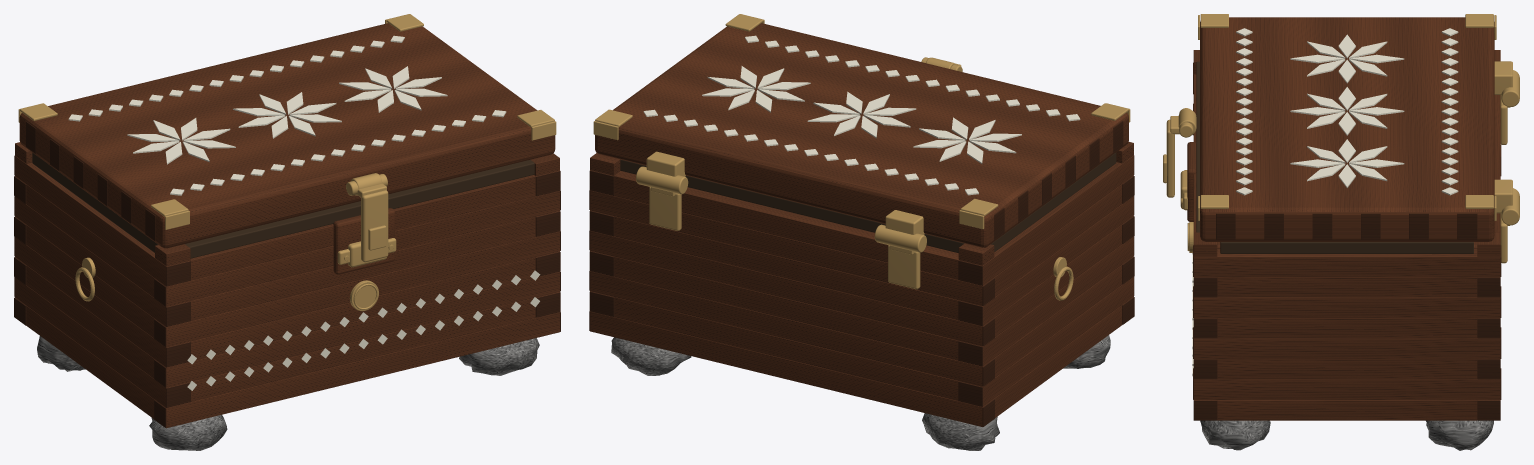
File: syria.glb
3 views of the same model, side by side, from view 1: azimuth 30°, elevation 25°; view 2: azimuth 150°, elevation 25°; view 3: azimuth 270°, elevation 25° (orthographic).
Parts seen in each view (by area): view 1: Lid / polished slab, Walnut / front course 0, Walnut / front course 2, Walnut / front course 4, Walnut / front course 6, Walnut / front course 5, Walnut / front course 7, Walnut / front course 1, Walnut / front course 3, Mineral seam / long, Walnut / side course 7, Walnut / side course 1 (+14 smaller); view 2: Lid / polished slab, Walnut / rear course 2, Walnut / rear course 4, Walnut / rear course 0, Walnut / rear course 7, Walnut / rear course 5, Walnut / rear course 1, Walnut / rear course 3, Walnut / rear course 6, Walnut / side course 7, Walnut / side course 1, Walnut / side course 3 (+18 smaller); view 3: Lid / polished slab, Walnut / side course 7.001, Walnut / side course 5.001, Walnut / side course 3.001, Walnut / side course 1.001, Walnut / side course 6.001, Walnut / side course 0.001, Walnut / side course 2.001, Walnut / side course 4.001, Mineral seam / side.001, Granite foot.002, Granite foot.003 (+29 smaller).
Boxes of the visible parts, left/top/right/bottom form: Lid / polished slab: left=19, top=23, right=555, bottom=248; Walnut / front course 0: left=155, top=312, right=559, bottom=428; Walnut / front course 2: left=155, top=271, right=559, bottom=387; Walnut / front course 4: left=155, top=231, right=559, bottom=347; Walnut / front course 6: left=155, top=191, right=559, bottom=306; Walnut / front course 5: left=190, top=217, right=535, bottom=320; Walnut / front course 7: left=190, top=175, right=535, bottom=280; Walnut / front course 1: left=191, top=298, right=535, bottom=401; Walnut / front course 3: left=190, top=257, right=535, bottom=360; Mineral seam / long: left=185, top=159, right=534, bottom=258; Walnut / side course 7: left=14, top=156, right=190, bottom=286; Walnut / side course 1: left=14, top=277, right=189, bottom=407; Lid / polished slab: left=595, top=23, right=1128, bottom=247; Walnut / rear course 2: left=590, top=271, right=994, bottom=386; Walnut / rear course 4: left=590, top=230, right=994, bottom=346; Walnut / rear course 0: left=590, top=311, right=993, bottom=426; Walnut / rear course 7: left=614, top=171, right=958, bottom=279; Walnut / rear course 5: left=614, top=216, right=958, bottom=320; Walnut / rear course 1: left=614, top=297, right=958, bottom=400; Walnut / rear course 3: left=614, top=256, right=958, bottom=360; Walnut / rear course 6: left=590, top=190, right=993, bottom=305; Walnut / side course 7: left=959, top=155, right=1133, bottom=285; Walnut / side course 1: left=959, top=277, right=1133, bottom=406; Walnut / side course 3: left=959, top=236, right=1133, bottom=366; Lid / polished slab: left=1200, top=17, right=1494, bottom=241; Walnut / side course 7.001: left=1194, top=249, right=1500, bottom=277; Walnut / side course 5.001: left=1194, top=297, right=1500, bottom=318; Walnut / side course 3.001: left=1194, top=338, right=1500, bottom=359; Walnut / side course 1.001: left=1194, top=379, right=1500, bottom=399; Walnut / side course 6.001: left=1217, top=277, right=1477, bottom=297; Walnut / side course 0.001: left=1217, top=400, right=1477, bottom=420; Walnut / side course 2.001: left=1217, top=359, right=1477, bottom=379; Walnut / side course 4.001: left=1217, top=318, right=1477, bottom=338; Mineral seam / side.001: left=1220, top=242, right=1473, bottom=253; Granite foot.002: left=1200, top=420, right=1270, bottom=450; Granite foot.003: left=1426, top=420, right=1493, bottom=450.
Size of the model in its own units: 3.79 by 2.31 by 2.88.
Materials: 6 (3 with a texture image).
